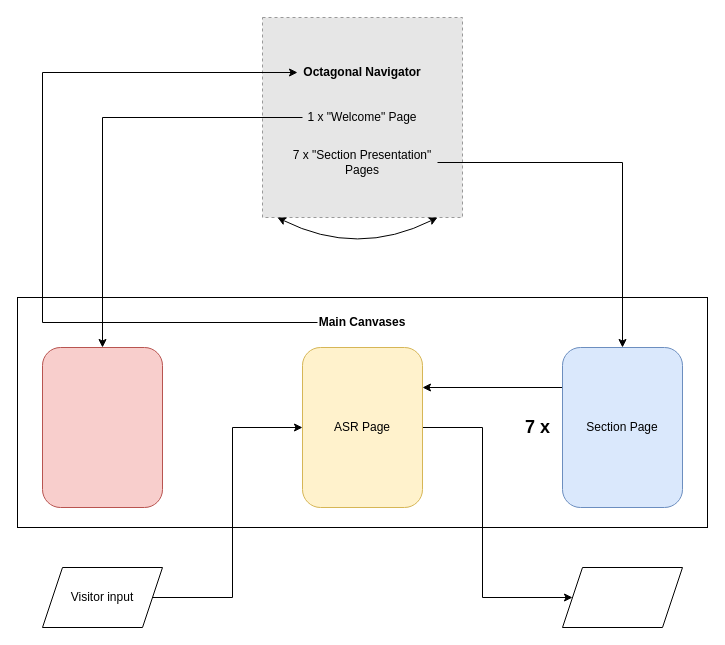
Some shapes in this 725 by 645 pixel diagram are drawn without their labels. Grey dashed boxes stand in for pictures. Each missing label, with the centre of its shape:
"Credit Page" goes at (102,427).
"Txt File" goes at (622,597).
